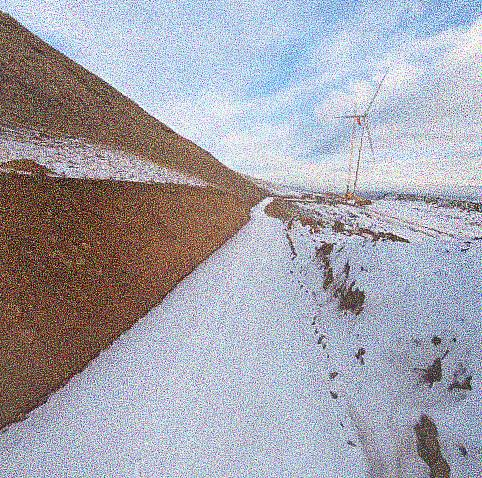wind turbine: (330, 68, 391, 202)
